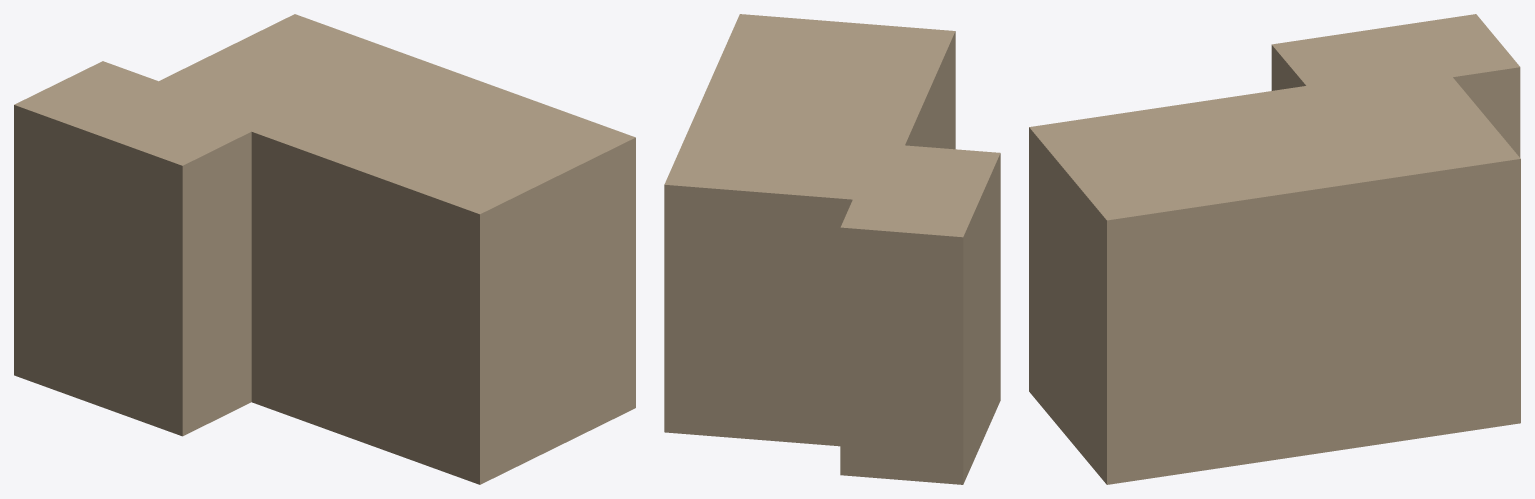
File: bld_106456312.dae
3 views of the same model, side by side, from view 1: azimuth 30°, elevation 25°; view 2: azimuth 150°, elevation 25°; view 3: azimuth 270°, elevation 25° (orthographic). The views are drawn at different scales.
Parts seen in each view (by area): view 1: bld_106456312; view 2: bld_106456312; view 3: bld_106456312.
Part boxes in pixels (bbox=[...]): bld_106456312: bbox=[14, 14, 635, 484]; bld_106456312: bbox=[664, 14, 1000, 484]; bld_106456312: bbox=[1029, 14, 1520, 484].
Size of the model in its own units: 13.4 by 13.48 by 8.
